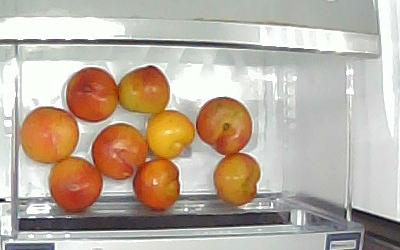prune: (20, 106, 80, 165), (196, 95, 253, 156), (48, 155, 102, 212), (92, 123, 145, 181), (66, 68, 118, 125), (119, 65, 171, 115), (146, 109, 195, 162), (133, 159, 182, 212), (214, 154, 262, 207)
